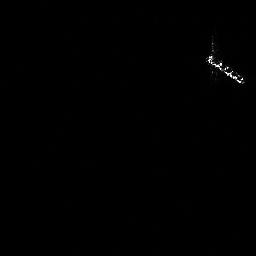ship: (204, 35, 247, 88)
